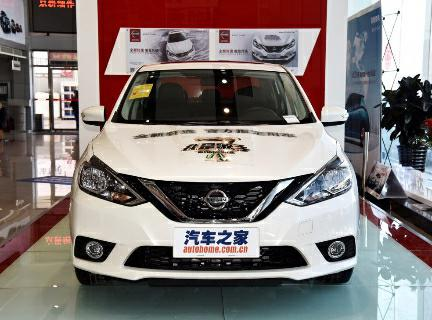日产-LANNIA蓝鸟: (65, 58, 367, 291)
